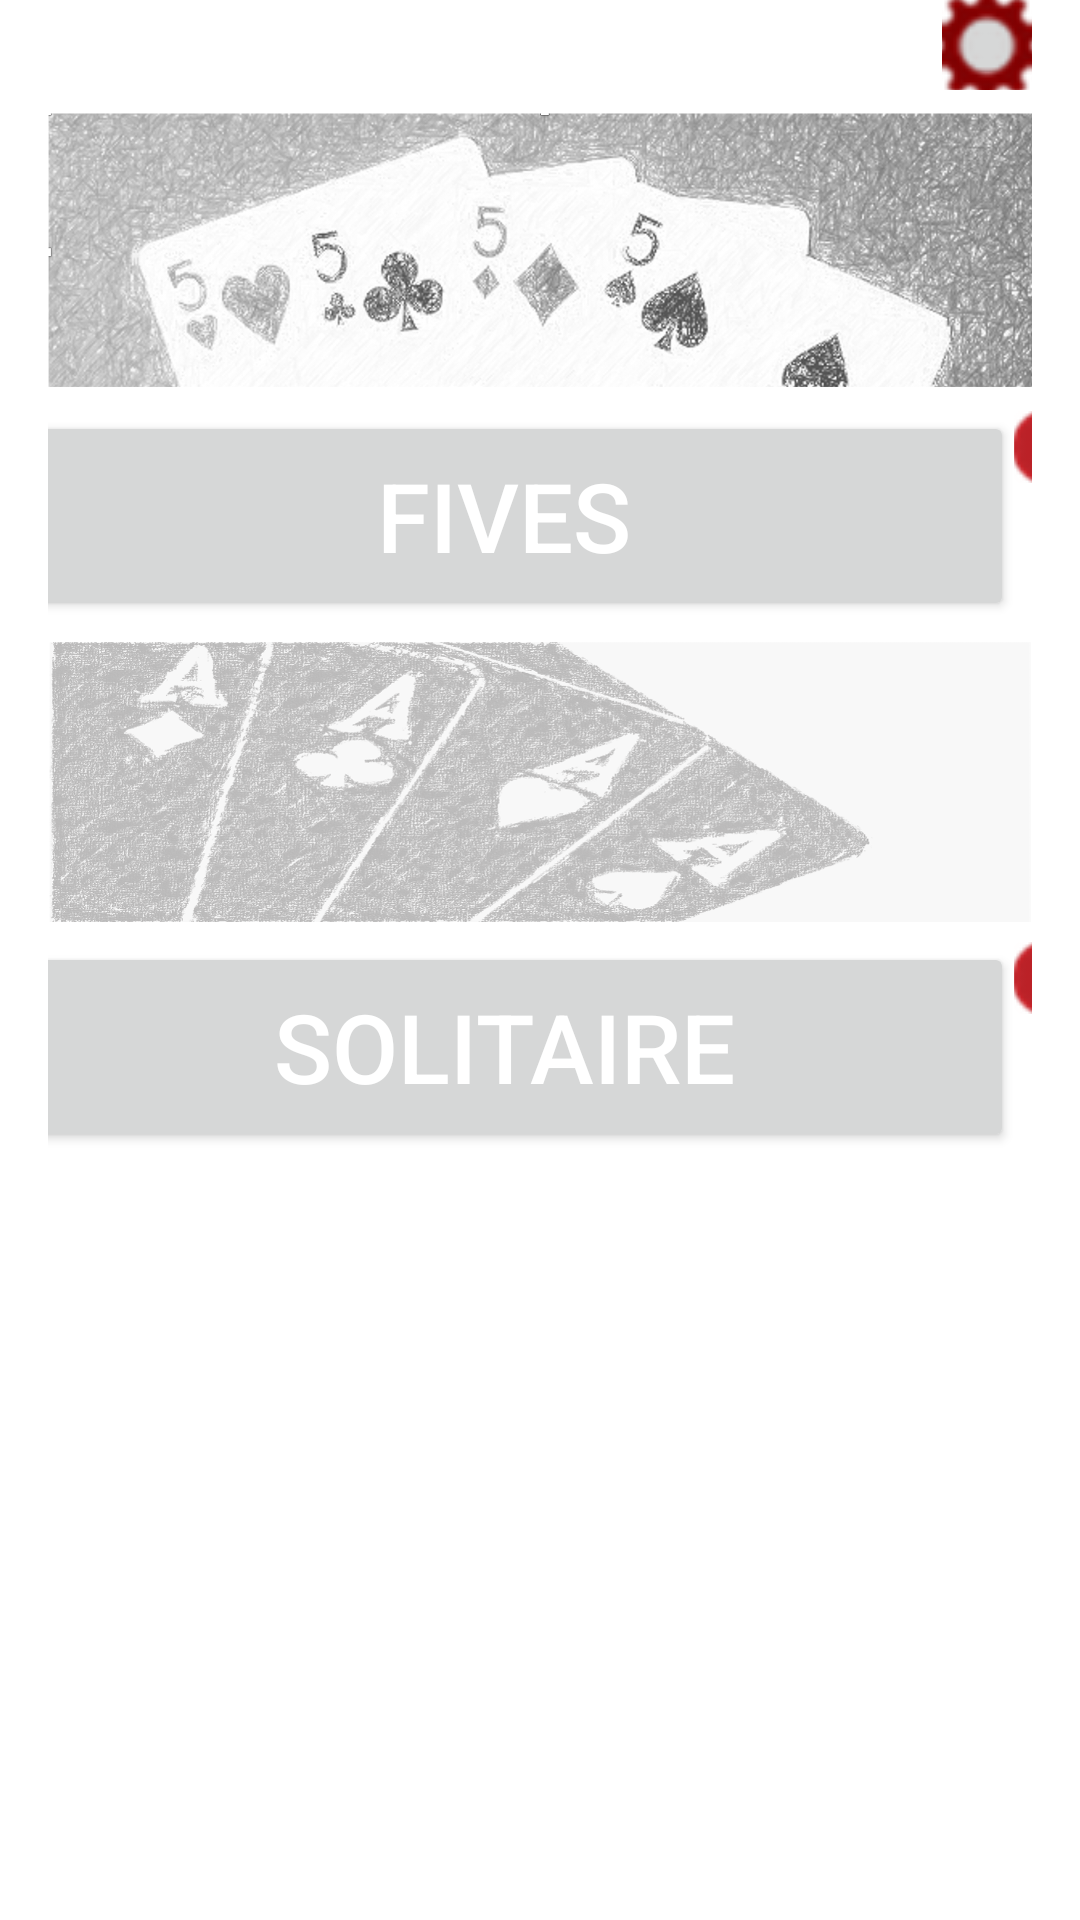

Where icons sit on this 1080x1920 app screen, as {"x1": x1, "y1": y1, "x2": x2, "y2": y2}:
Settings Cog Icon: {"x1": 942, "y1": 0, "x2": 1032, "y2": 90}
